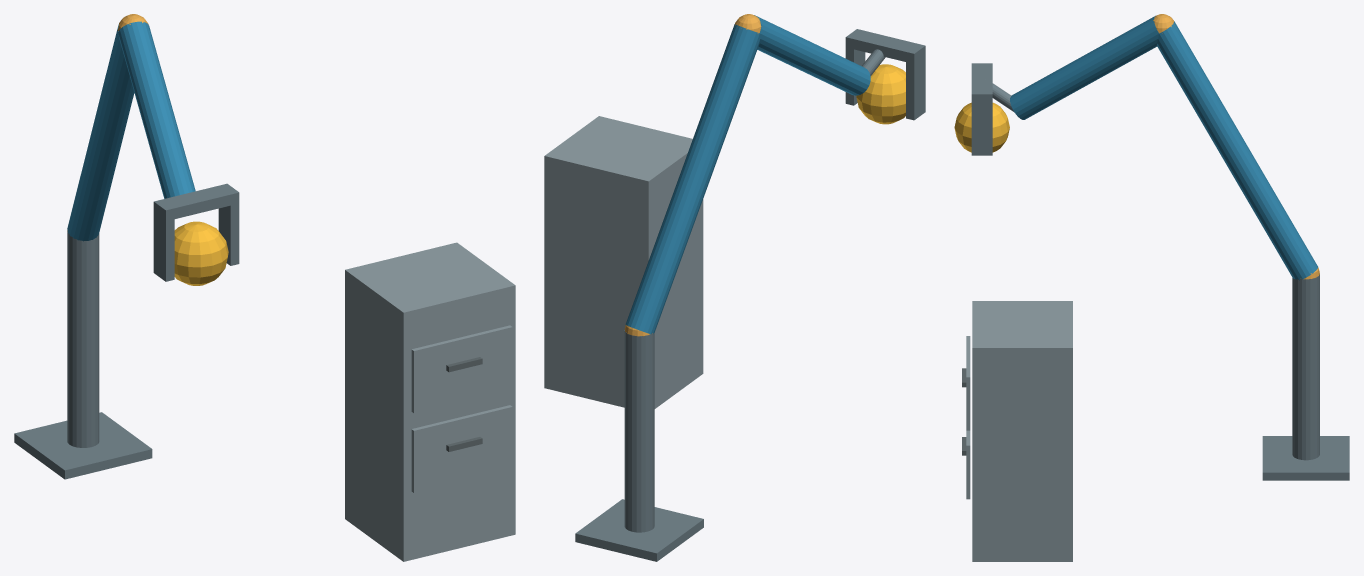
3 renders of one model, left to right at view 1: azimuth 30°, elevation 25°; view 2: azimuth 150°, elevation 25°; view 3: azimuth 270°, elevation 25°, orthographic. The views are drawn at different scales.
Visible parts, largest first — view 1: cabinet_1 body, fixed post, cabinet_1 drawer front, cabinet_1 drawer front.001, moving link 1, moving link 2, pedestal, ball ball_1, gripper bridge, gripper finger -1, gripper finger 1; view 2: cabinet_1 body, moving link 1, fixed post, pedestal, moving link 2, ball ball_1, gripper bridge, gripper finger -1; view 3: cabinet_1 body, moving link 1, fixed post, moving link 2, pedestal, ball ball_1, gripper finger 1, gripper bridge.
Part boxes in pixels (left/top/right/bottom): cabinet_1 body: left=345, top=242, right=515, bottom=561; fixed post: left=67, top=229, right=99, bottom=447; cabinet_1 drawer front: left=411, top=405, right=512, bottom=492; cabinet_1 drawer front.001: left=411, top=325, right=512, bottom=413; moving link 1: left=67, top=24, right=134, bottom=241; moving link 2: left=118, top=21, right=195, bottom=198; pedestal: left=14, top=412, right=152, bottom=479; ball ball_1: left=174, top=221, right=228, bottom=285; gripper bridge: left=153, top=183, right=239, bottom=221; gripper finger -1: left=153, top=213, right=174, bottom=281; gripper finger 1: left=218, top=203, right=239, bottom=265; cabinet_1 body: left=544, top=116, right=703, bottom=408; moving link 1: left=625, top=24, right=760, bottom=334; fixed post: left=624, top=330, right=654, bottom=532; pedestal: left=575, top=499, right=703, bottom=561; moving link 2: left=754, top=15, right=870, bottom=95; ball ball_1: left=856, top=64, right=905, bottom=124; gripper bridge: left=845, top=29, right=925, bottom=63; gripper finger -1: left=906, top=56, right=925, bottom=120; cabinet_1 body: left=972, top=301, right=1072, bottom=561; moving link 1: left=1157, top=21, right=1317, bottom=280; fixed post: left=1292, top=274, right=1319, bottom=460; moving link 2: left=1010, top=15, right=1159, bottom=119; pedestal: left=1262, top=436, right=1349, bottom=480; ball ball_1: left=954, top=102, right=1009, bottom=152; gripper finger 1: left=971, top=103, right=992, bottom=155; gripper bridge: left=971, top=63, right=992, bottom=103.
Bounding box in the file's own units: 0.9997 × 1.38 × 1.14.
